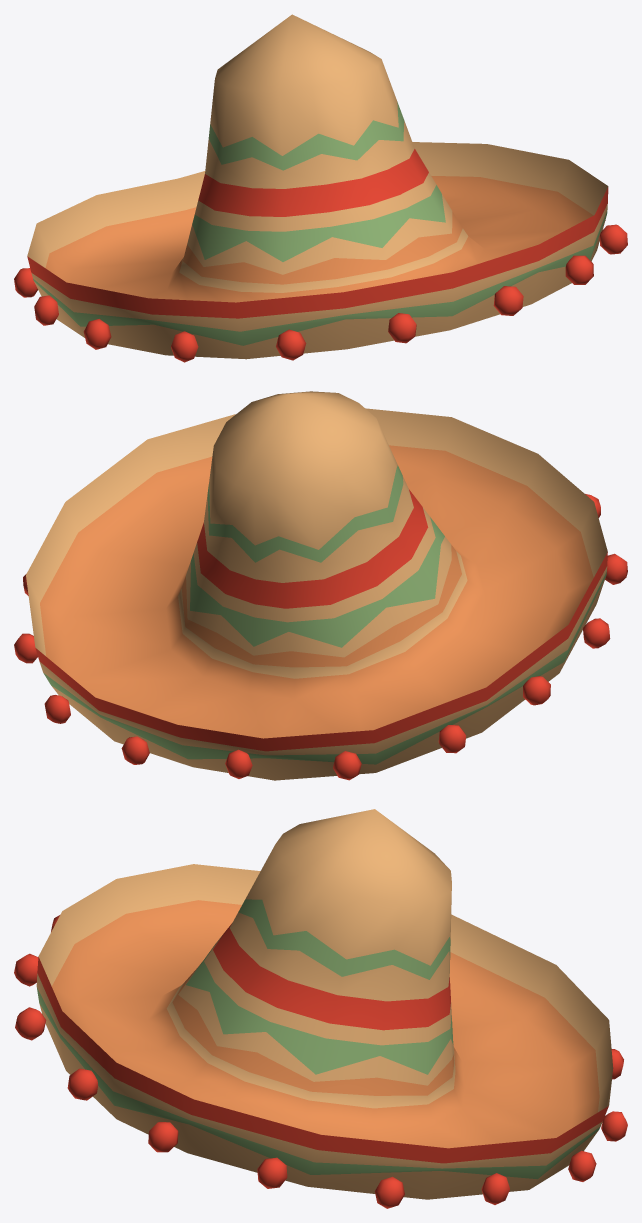
File: hat_sombrero.fbx
The picture shows the model from 3 angles, top to bottom: view 1: azimuth 30°, elevation 25°; view 2: azimuth 150°, elevation 25°; view 3: azimuth 270°, elevation 25°; orthographic projection. The views are drawn at different scales.
Visible parts, largest first — view 1: hat_sombrero; view 2: hat_sombrero; view 3: hat_sombrero.
Part boxes in pixels (left/top/right/bottom): hat_sombrero: left=14, top=14, right=627, bottom=362; hat_sombrero: left=14, top=391, right=627, bottom=780; hat_sombrero: left=14, top=809, right=627, bottom=1208.
Size of the model in its own units: 1.56 by 0.8561 by 1.51.
